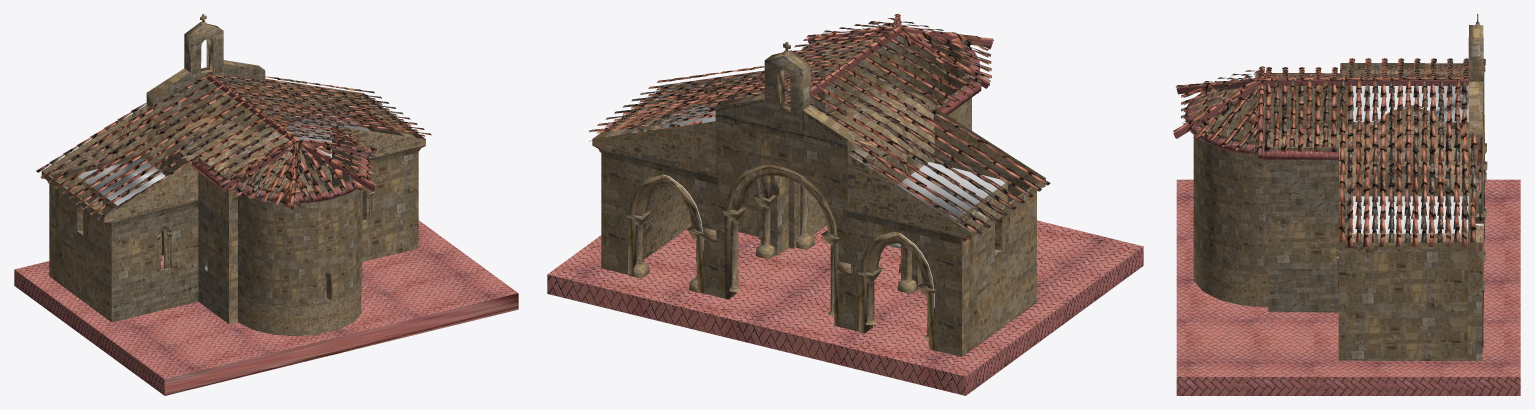
File: Iglesia_optim.obj
3 renders of one model, left to right at view 1: azimuth 30°, elevation 25°; view 2: azimuth 150°, elevation 25°; view 3: azimuth 270°, elevation 25°, orthographic. The views are drawn at different scales.
Parts seen in each view (by area): view 1: Arco_central.001, Arco_central.002; view 2: Arco_central.001, Arco_central.002; view 3: Arco_central.001.
Boxes of the visible parts, left/top/right/bottom form: Arco_central.001: left=14, top=14, right=518, bottom=395; Arco_central.002: left=90, top=80, right=374, bottom=231; Arco_central.001: left=547, top=14, right=1143, bottom=395; Arco_central.002: left=632, top=27, right=988, bottom=227; Arco_central.001: left=1173, top=14, right=1520, bottom=395.
Bounding box in the file's own units: 16.24 × 10.7 × 12.11.
